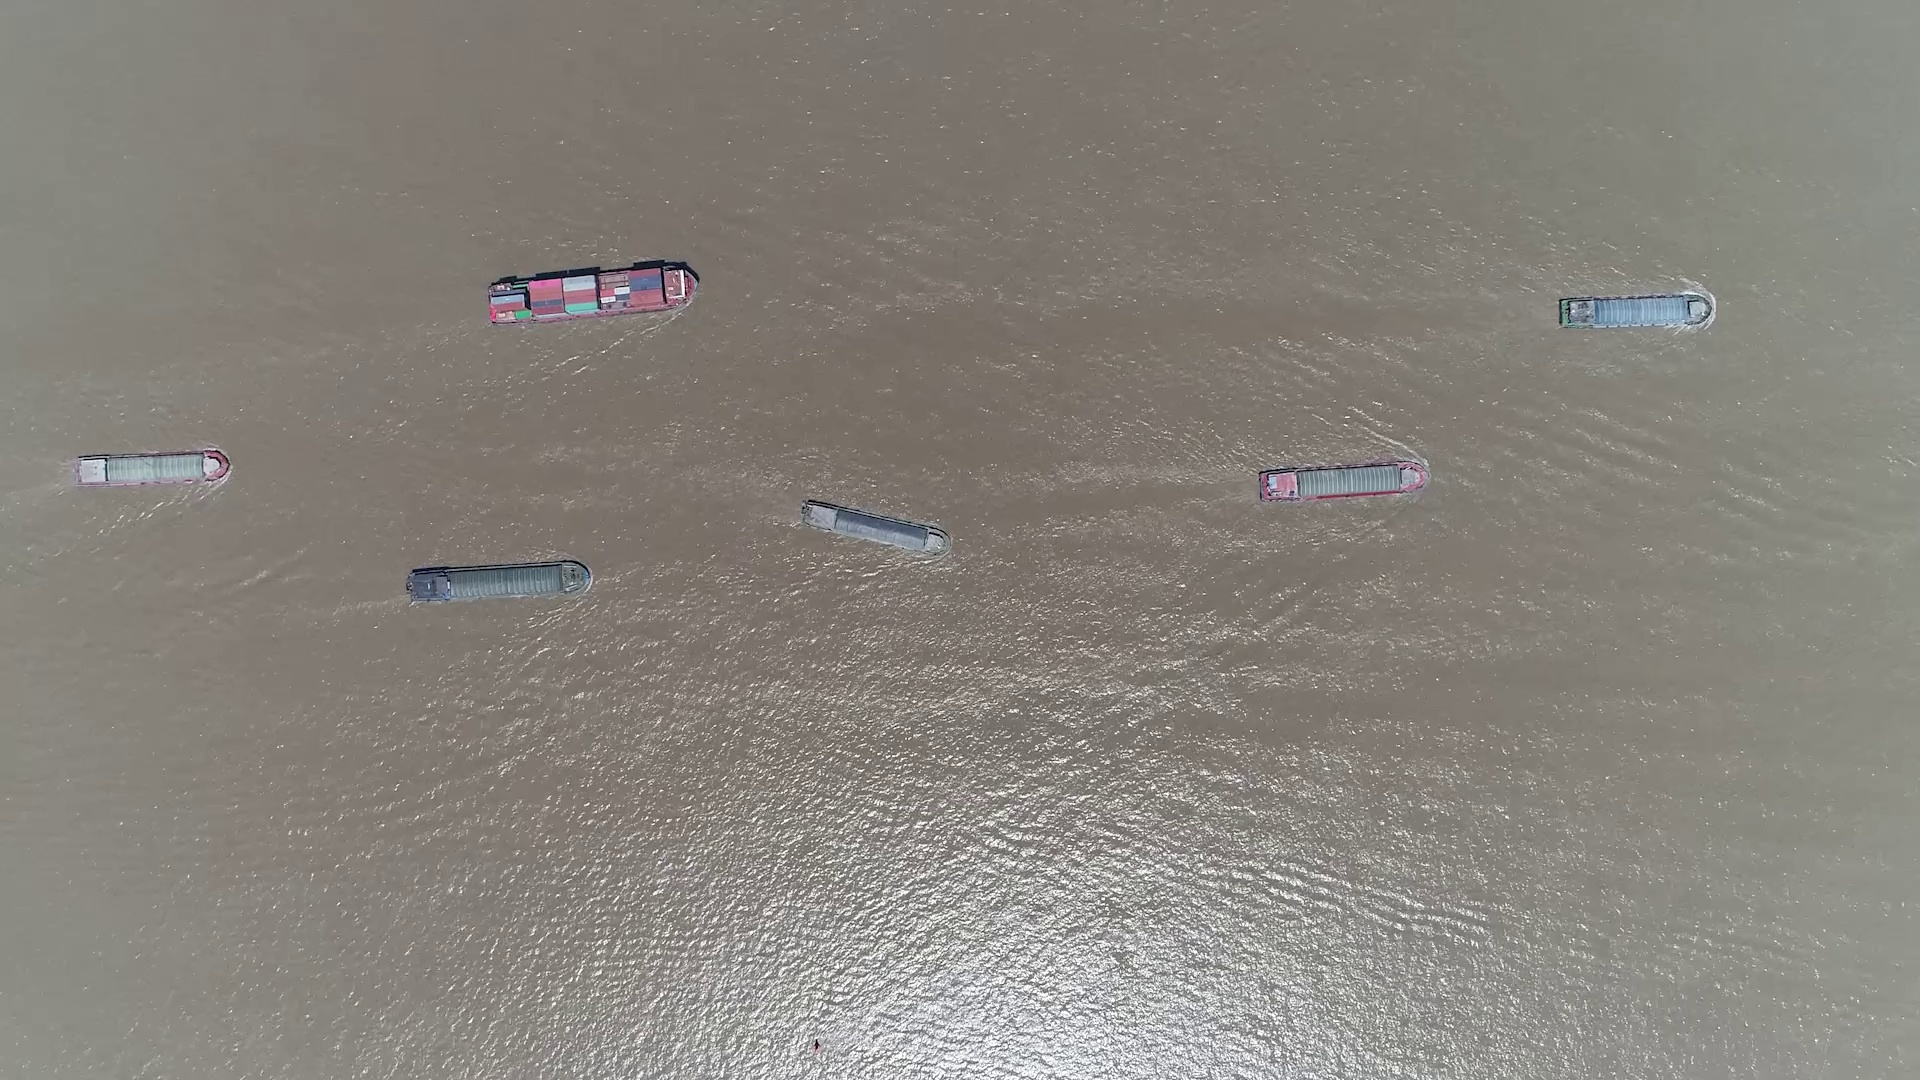ship: (487, 262, 699, 324), (798, 500, 948, 556), (406, 560, 592, 603), (1259, 460, 1428, 502), (73, 450, 228, 487), (1561, 295, 1712, 328)
